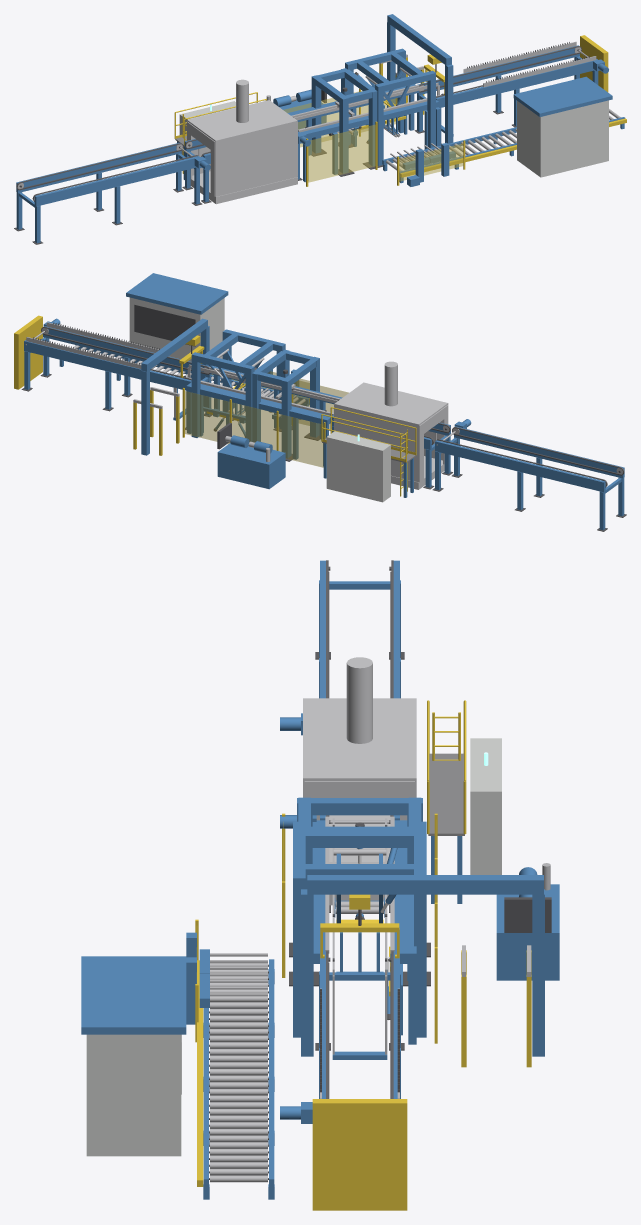
File: SM_CathodeStrippingMachine.fbx
The picture shows the model from 3 angles, top to bottom: view 1: azimuth 30°, elevation 25°; view 2: azimuth 150°, elevation 25°; view 3: azimuth 270°, elevation 25°; orthographic projection. The views are drawn at different scales.
Visible parts, largest first — view 1: CS_Dressing, CS_WashHood, CS_Receive_Frame, CS_Guards, CS_Discharge_Frame, CS_FlexFrame, CS_StationFrame, CS_StripFrame, CS_RejectRack, CS_PickupGuides, CS_StackConv_Frame, CS_Wash_Frame (+5 smaller); view 2: CS_Dressing, CS_WashHood, CS_Guards, CS_Receive_Frame, CS_Discharge_Frame, CS_FlexFrame, CS_StationFrame, CS_StripFrame, CS_RejectRack, CS_PickupGuides, CS_Wash_Frame, CS_WalkingBeam (+3 smaller); view 3: CS_Dressing, CS_WashHood, CS_PickupGuides, CS_RejectRack, CS_StripFrame, CS_StationFrame, CS_StackConv_Frame, CS_FlexFrame, CS_Receive_Frame, CS_Discharge_Frame, CS_Guards, CS_WalkingBeam (+4 smaller).
Boxes of the visible parts, x1,y1,x2,y2 form: CS_Dressing: (174,76,612,179); CS_WashHood: (187,79,297,204); CS_Receive_Frame: (14,142,210,244); CS_Guards: (283,88,465,186); CS_Discharge_Frame: (414,45,608,145); CS_FlexFrame: (311,68,382,176); CS_StationFrame: (287,84,440,182); CS_StripFrame: (345,48,435,165); CS_RejectRack: (379,14,453,143); CS_PickupGuides: (463,35,608,92); CS_StackConv_Frame: (382,117,626,186); CS_Wash_Frame: (182,131,310,203); CS_Dressing: (126,273,416,502); CS_WashHood: (334,361,448,489); CS_Guards: (182,371,348,467); CS_Receive_Frame: (432,419,626,531); CS_Discharge_Frame: (21,318,211,429); CS_FlexFrame: (252,349,319,461); CS_StationFrame: (186,366,342,466); CS_StripFrame: (191,329,285,441); CS_RejectRack: (133,318,209,455); CS_PickupGuides: (14,315,159,389); CS_Wash_Frame: (332,415,452,489); CS_WalkingBeam: (173,364,338,420); CS_Dressing: (81,700,559,1156); CS_WashHood: (303,657,416,905); CS_PickupGuides: (312,988,407,1210); CS_RejectRack: (301,875,544,1067); CS_StripFrame: (293,821,426,1037); CS_StationFrame: (312,816,416,1044); CS_StackConv_Frame: (197,959,274,1199); CS_FlexFrame: (289,797,430,986); CS_Receive_Frame: (280,560,404,735); CS_Discharge_Frame: (280,951,404,1123); CS_Guards: (195,813,437,1043); CS_WalkingBeam: (332,818,387,1059).
Size of the model in its own units: 2511 by 426 by 910.
